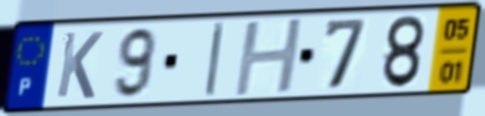7: (320, 17, 373, 92)
8: (380, 14, 427, 90)
9: (111, 25, 160, 101)
H: (231, 15, 307, 100)
I: (202, 20, 228, 100)
K: (53, 29, 106, 101)
